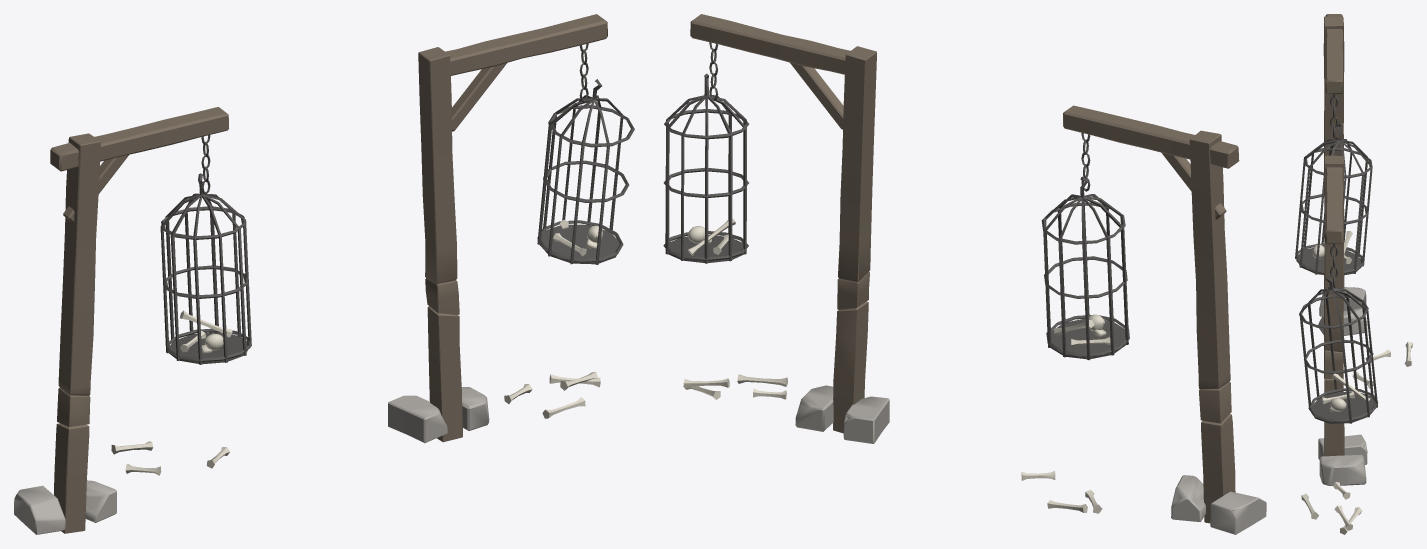
File: gibbet.glb
3 views of the same model, side by side, from view 1: azimuth 30°, elevation 25°; view 2: azimuth 150°, elevation 25°; view 3: azimuth 270°, elevation 25° (orthographic). The views are drawn at different scales.
Parts seen in each view (by area): view 1: post, post.001, cage_ns, cage_ns.001, beam.001, beam, wedge0.001, wedge0, brace.001, wedge1, wedge1.001; view 2: post.001, post, cage_ns, cage_ns.001, beam.001, beam, wedge0, wedge0.001, wedge1.001, wedge1, brace.001; view 3: cage_ns.001, cage_ns, post.001, post, beam.001, wedge1.001, beam, wedge0.001, wedge1, wedge0, skull_ns.001, bone1_ns.001 (+4 smaller).
Boxes of the visible parts, x1,y1,x2,y2 form: post: (54, 133, 100, 533); post.001: (418, 47, 462, 442); cage_ns: (160, 173, 251, 364); cage_ns.001: (537, 79, 634, 264); beam.001: (445, 14, 607, 75); beam: (50, 107, 228, 171); wedge0.001: (388, 395, 447, 443); wedge0: (14, 485, 65, 534); brace.001: (452, 63, 506, 131); wedge1: (85, 480, 116, 522); wedge1.001: (461, 387, 489, 430); post.001: (833, 46, 876, 433); post: (1189, 130, 1235, 523); cage_ns: (1041, 176, 1129, 360); cage_ns.001: (663, 73, 749, 263); beam.001: (690, 14, 850, 74); beam: (1063, 105, 1239, 168); wedge0: (1210, 491, 1266, 534); wedge0.001: (843, 396, 889, 443); wedge1.001: (795, 385, 833, 431); wedge1: (1171, 475, 1205, 521); brace.001: (790, 62, 843, 129); cage_ns.001: (1299, 273, 1378, 423); cage_ns: (1295, 123, 1372, 275); post.001: (1324, 155, 1344, 456); post: (1323, 16, 1344, 313); beam.001: (1324, 167, 1343, 244); wedge1.001: (1319, 454, 1366, 485); beam: (1325, 14, 1343, 93); wedge0.001: (1318, 434, 1367, 464); wedge1: (1318, 308, 1367, 335); wedge0: (1319, 287, 1366, 316); skull_ns.001: (1329, 398, 1346, 411); bone1_ns.001: (1331, 373, 1370, 403).
Size of the model in its own units: 6.35 by 3.92 by 1.33.
